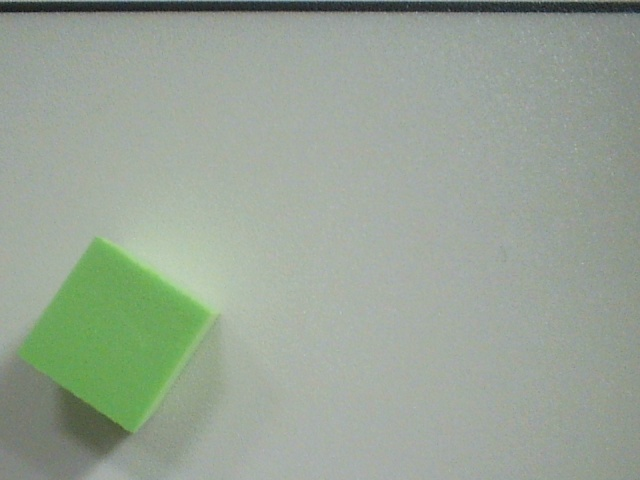greencube: (6, 233, 230, 440)
